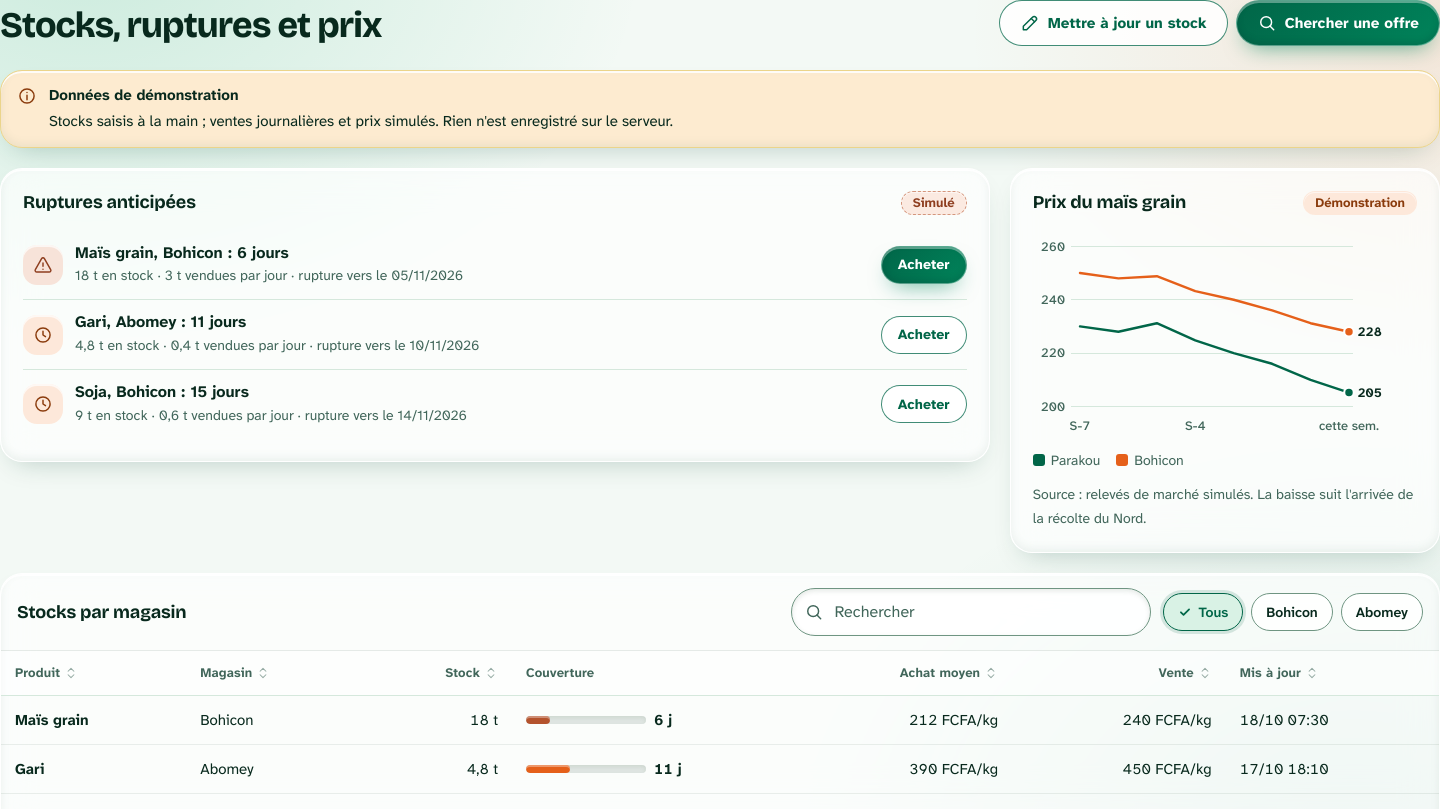
Test case: Stocks et ruptures › page /offres : étiquetée démonstration, mise à jour d’un stock à zéro → « En rupture »
expect the text "Données de démonstration" is shown: met, box left=49, top=85, right=238, bottom=105
expect the text "Maïs grain, Bohicon : 6 jours" is shown: met, box left=75, top=242, right=289, bottom=262
Click the button "Mettre à jour un stock": (1113, 23) left=999, top=0, right=1228, bottom=46
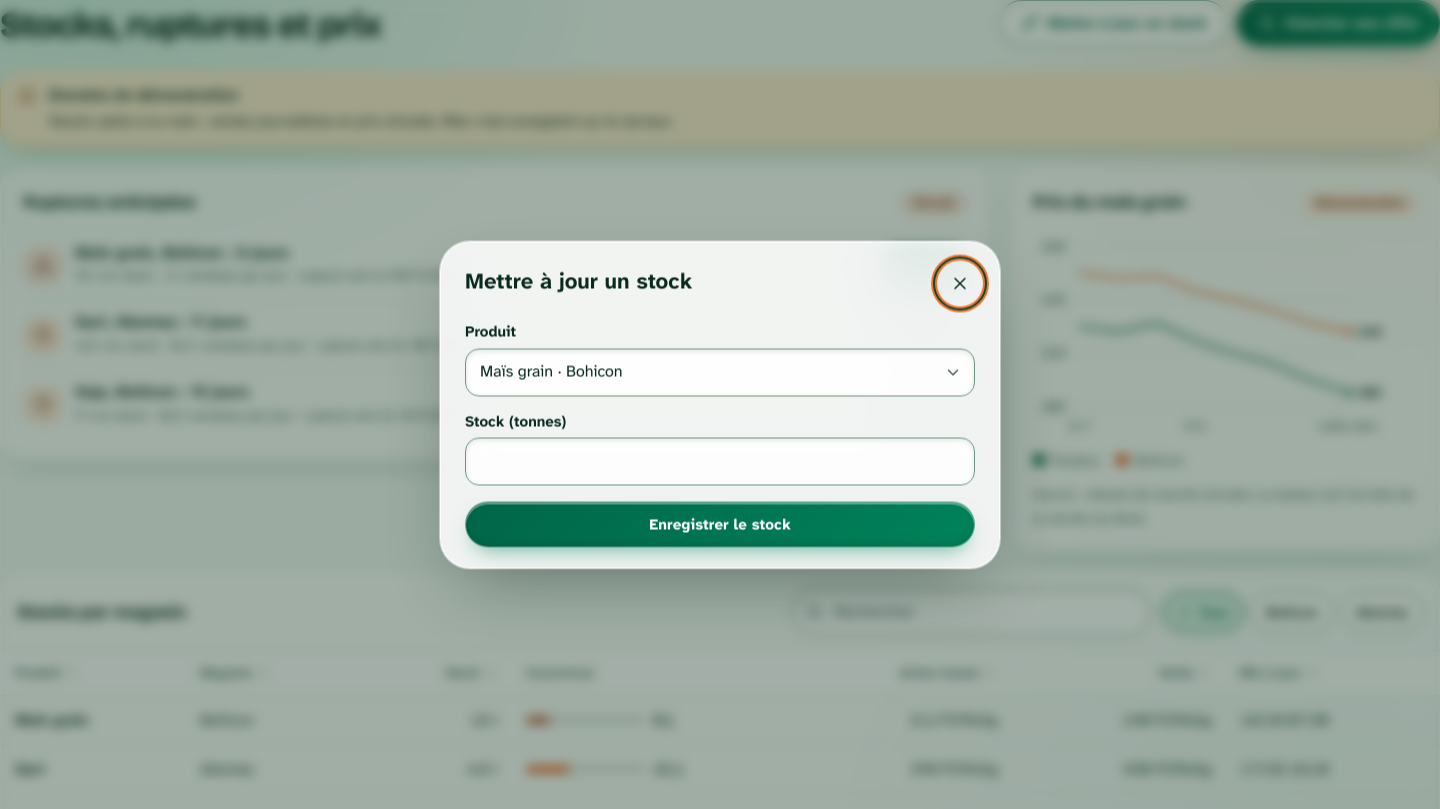
In the field labelled "Stock (tonnes)": (720, 462) left=465, top=438, right=975, bottom=486, type "abc"
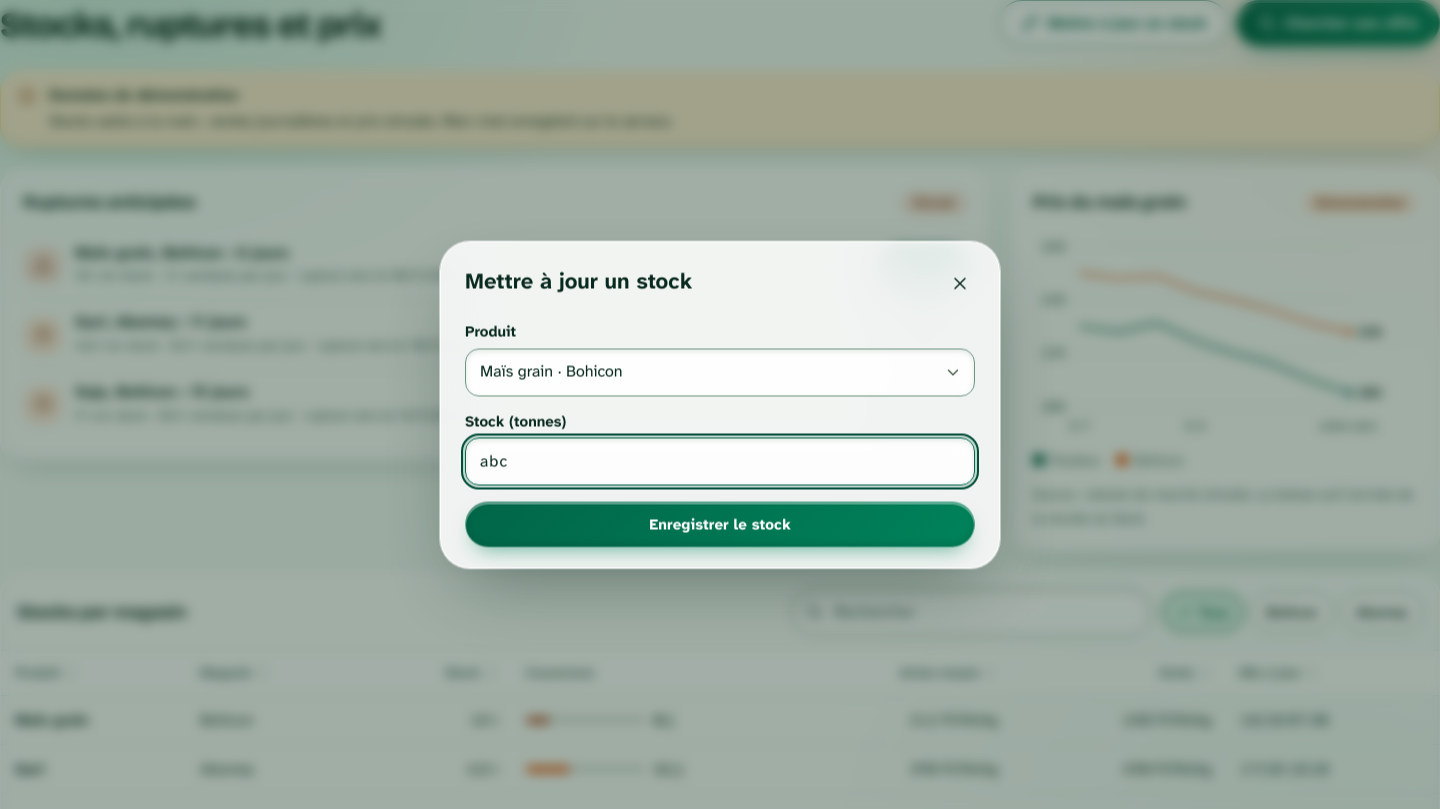
Click the button "Enregistrer le stock": (720, 524) left=465, top=502, right=975, bottom=548
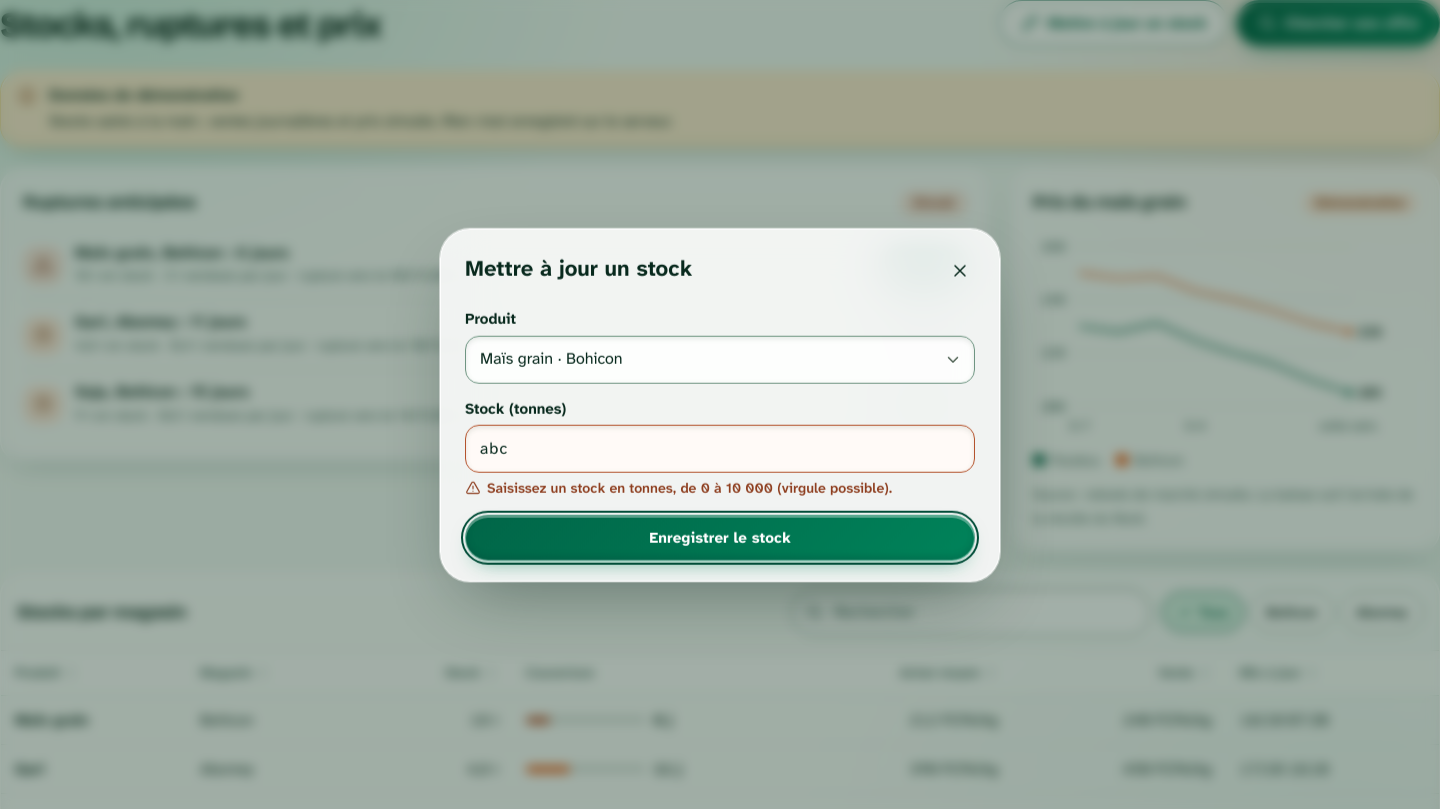
expect the text "Saisissez un stock en tonnes, de 0 à 10 000 (virgule possible)." is shown: met, box left=465, top=479, right=892, bottom=497
Replace the text in the field labelled "Stock (tonnes)" with "0": (720, 449) left=465, top=425, right=975, bottom=473
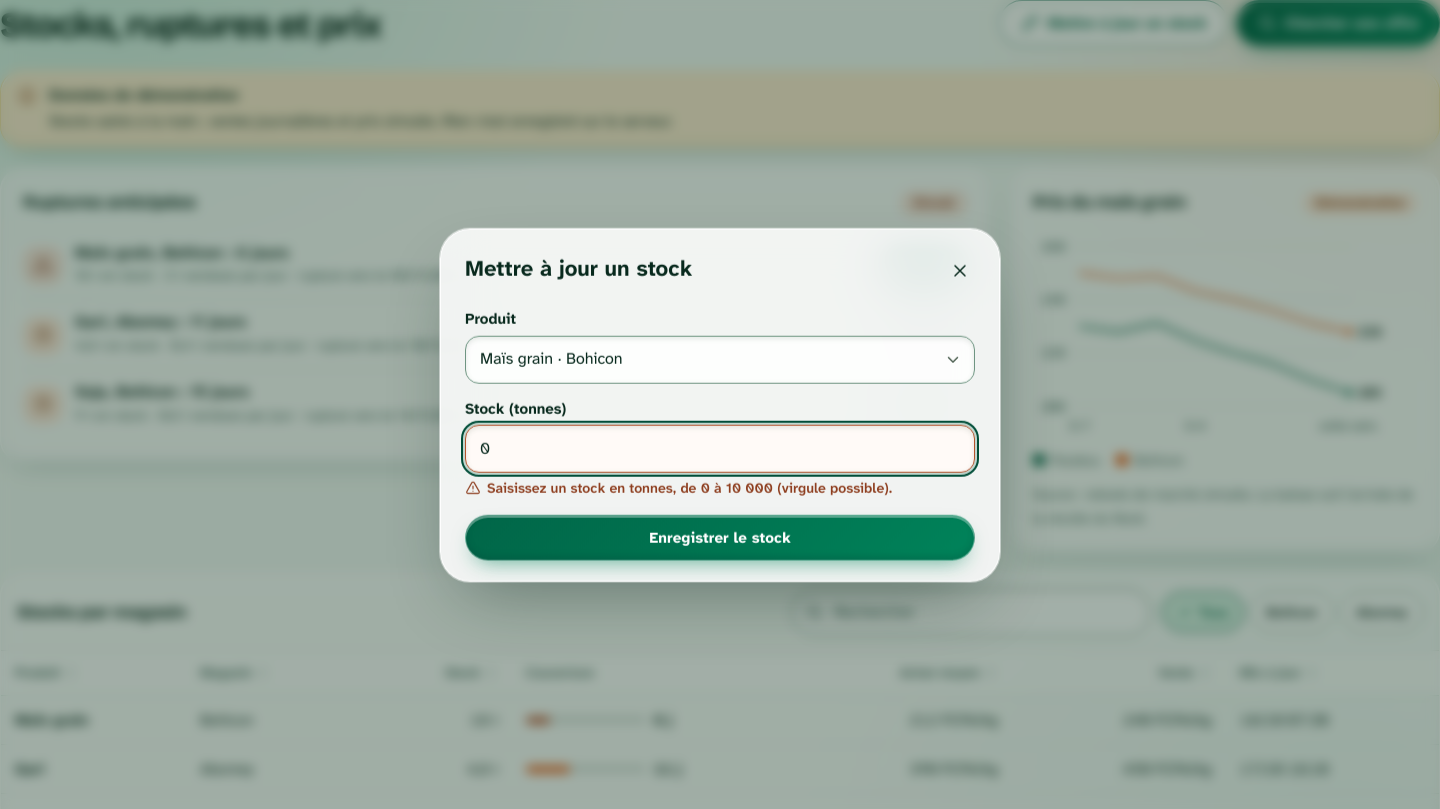
Click the button "Enregistrer le stock": (720, 537) left=465, top=514, right=975, bottom=560
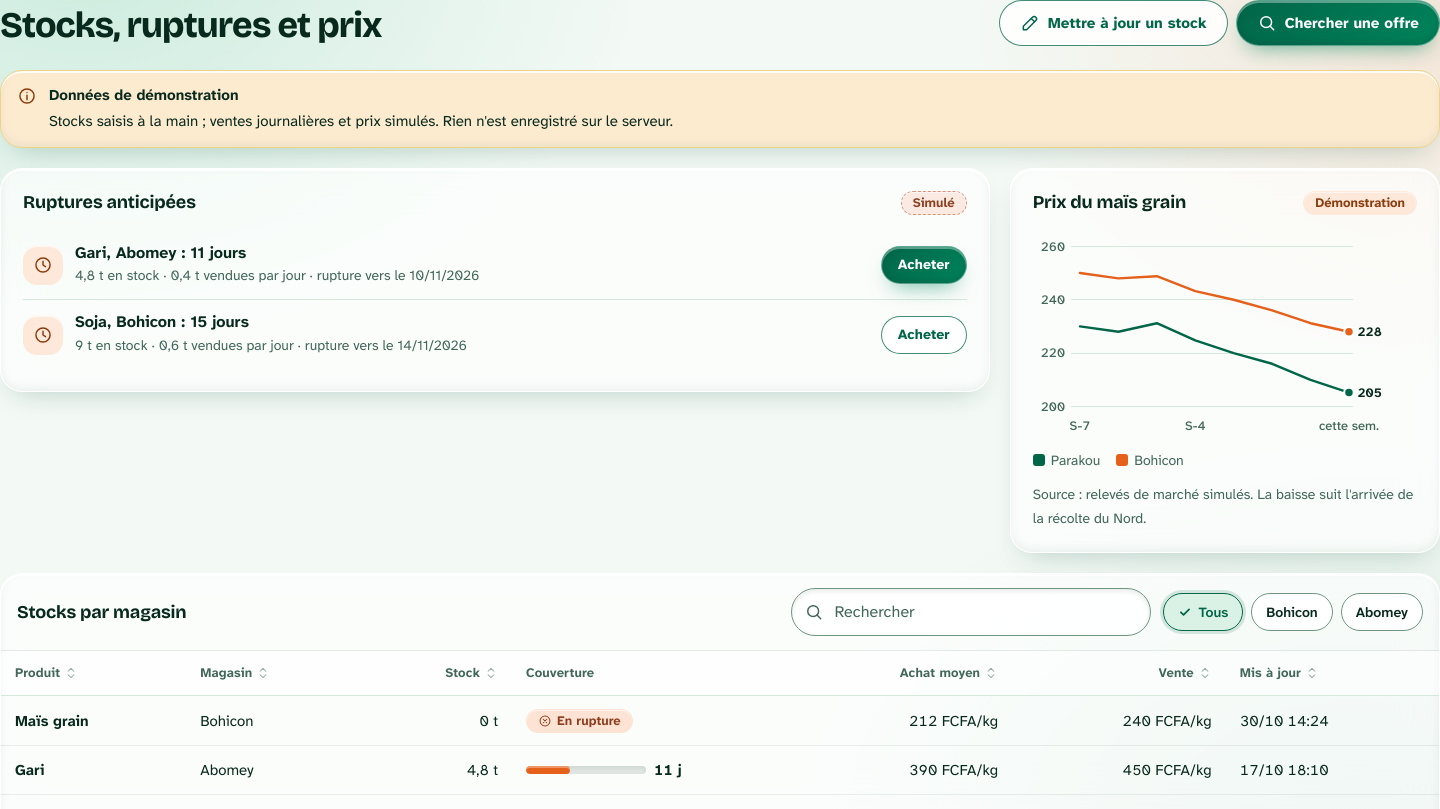
expect the text "Maïs grain, Bohicon : 6 jours" is gone: met
expect the text "En rupture" is shown 2 times: met
